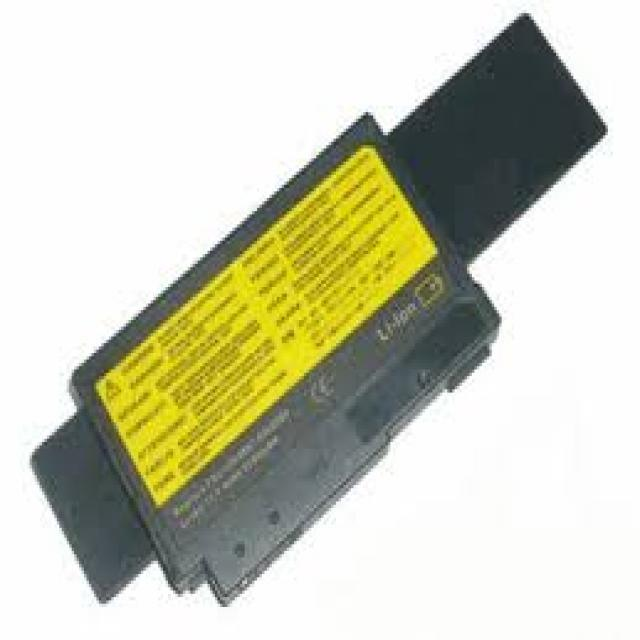battery: (27, 14, 611, 608)
